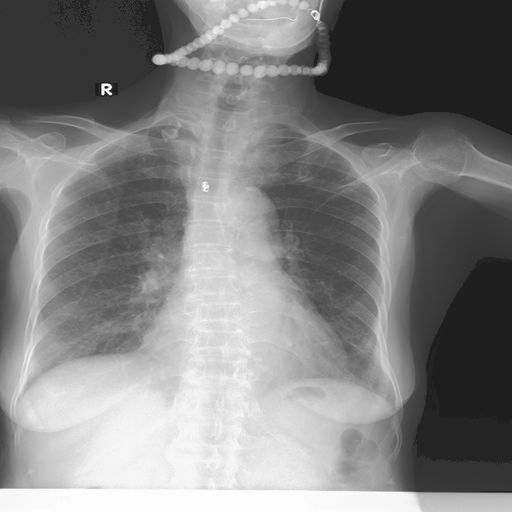Consolidation: (225, 186, 278, 240)
Lung Opacity: (157, 123, 183, 143)
Nodule/Mass: (130, 327, 349, 390)
Other lesion: (161, 121, 183, 140)
Pneumothorax: (307, 183, 360, 215), (157, 123, 183, 143)
